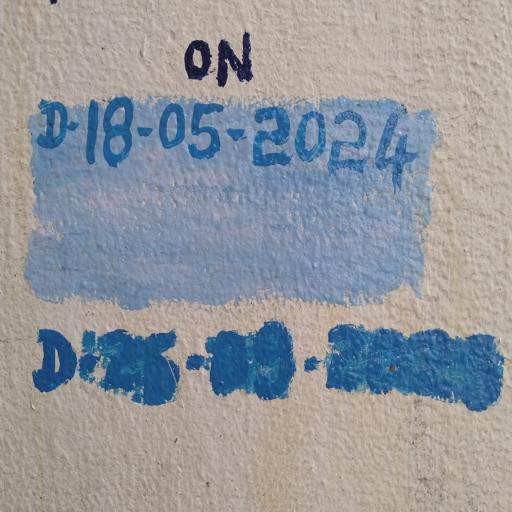stain: (27, 84, 461, 335), (19, 313, 512, 460), (149, 22, 283, 95)
